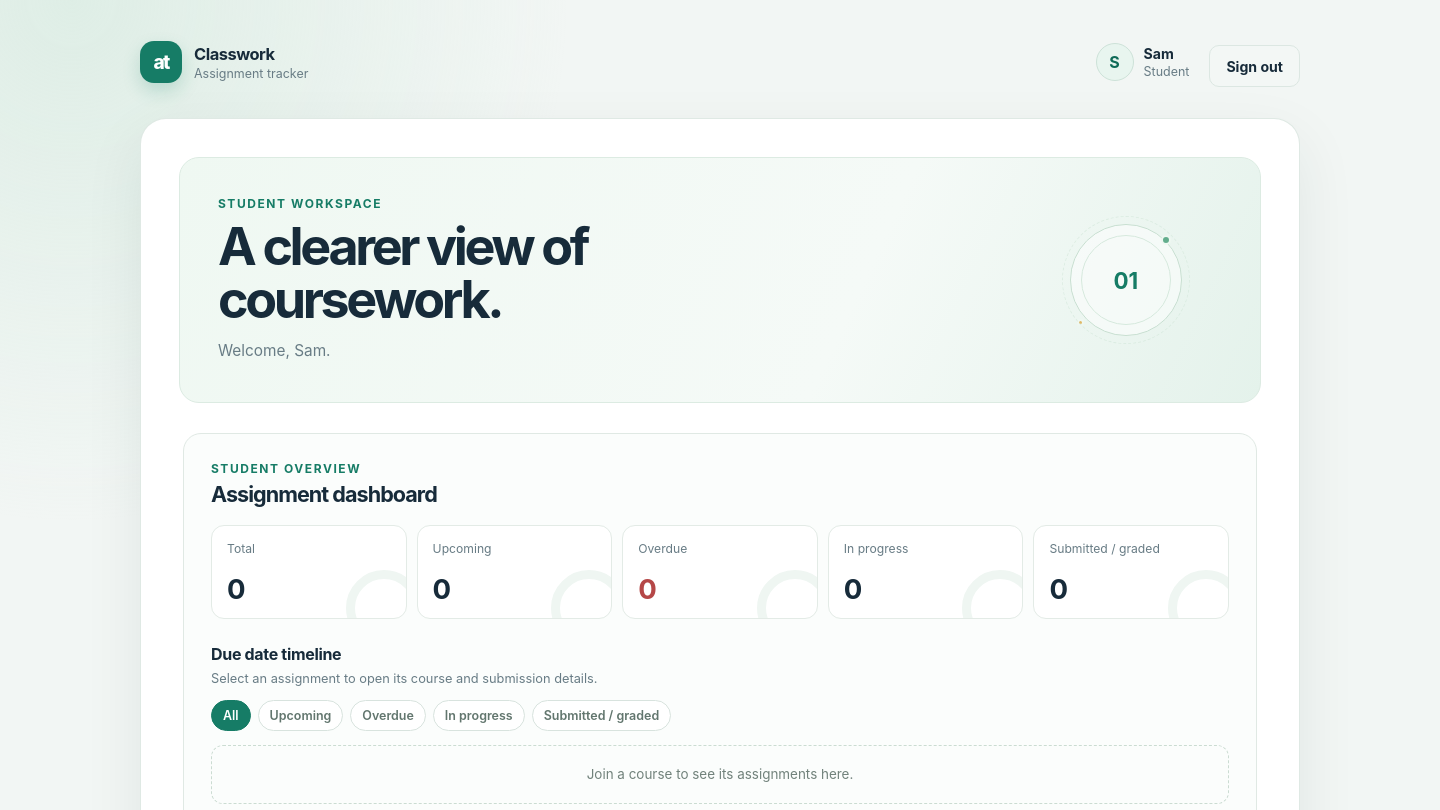
Test: sign-out returns the user to the login form
Click the button "Sign out" at (1255, 66), box [1209, 45, 1300, 87]
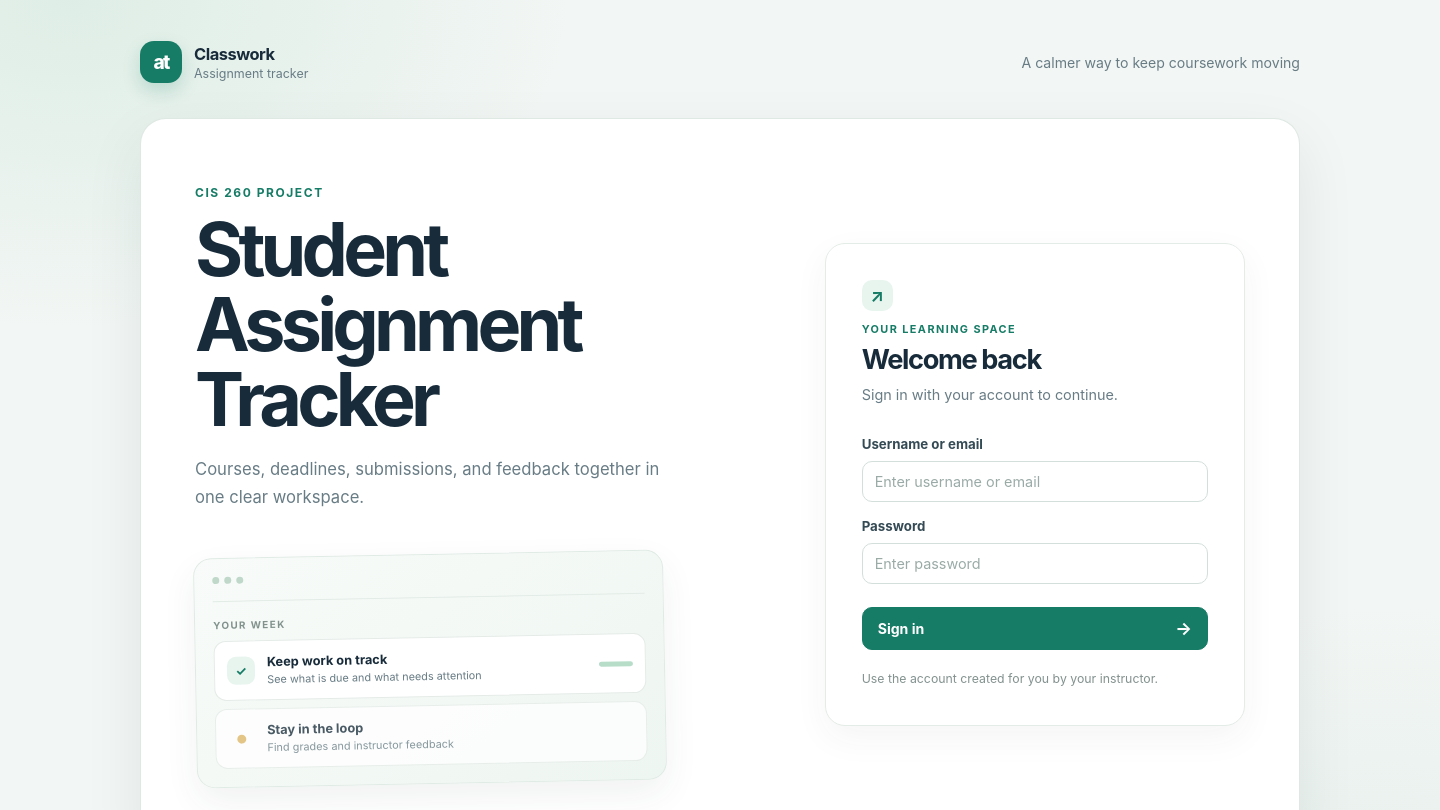
Expected: the field labelled "Username or email" is shown, [862, 461, 1208, 502]
